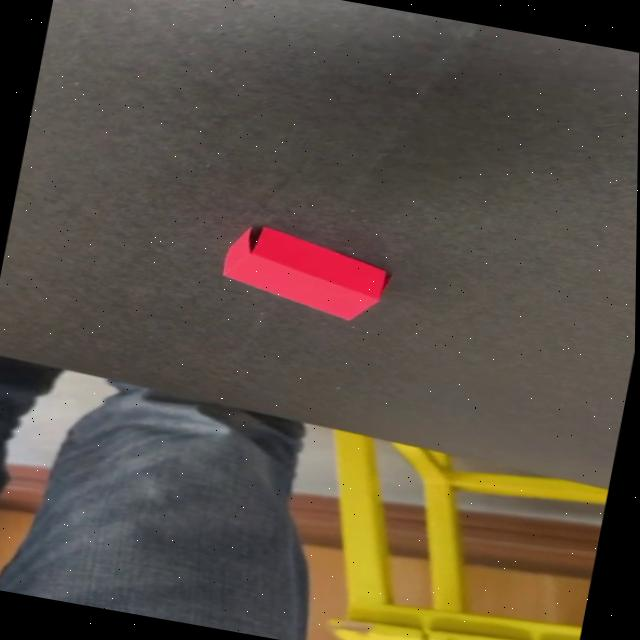red block: (212, 218, 393, 326)
